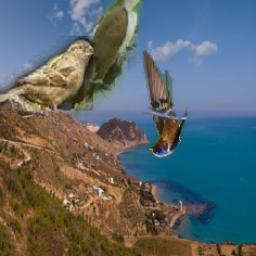Cuckoo: (72, 0, 143, 129)
Sparrow: (0, 37, 94, 112)
Swallow: (142, 50, 188, 158)
